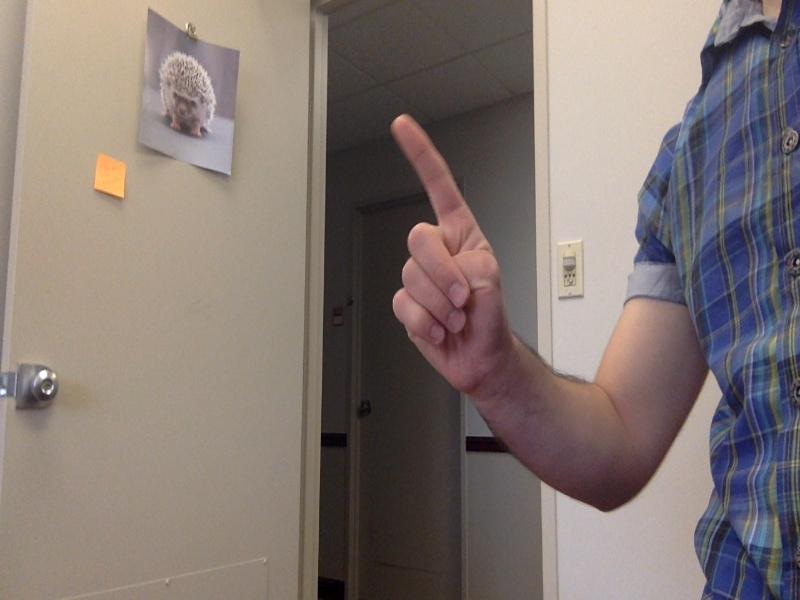1-hand: (382, 111, 516, 398)
